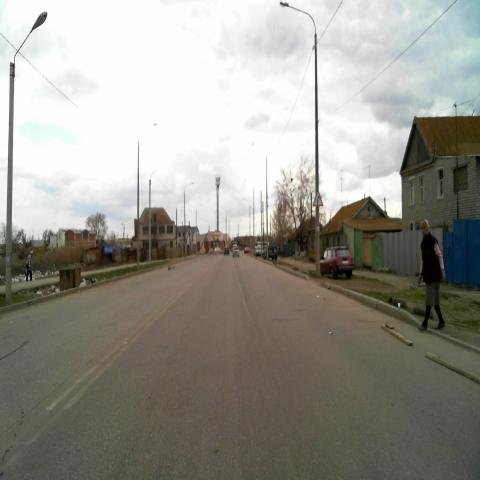1_11: (312, 190, 323, 207)
